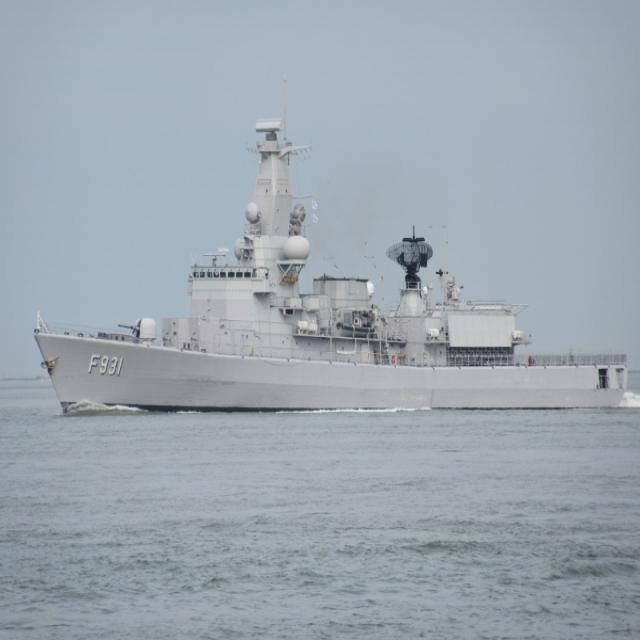Fragata: (30, 115, 634, 421)
